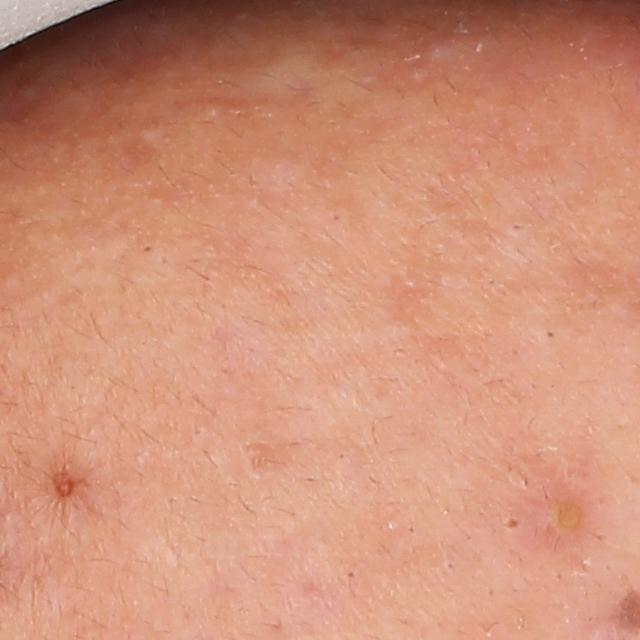atrophic_scar: (236, 435, 292, 482)
comedo: (496, 508, 521, 533), (137, 239, 156, 255), (344, 568, 361, 583), (542, 327, 558, 342), (509, 221, 525, 233)
